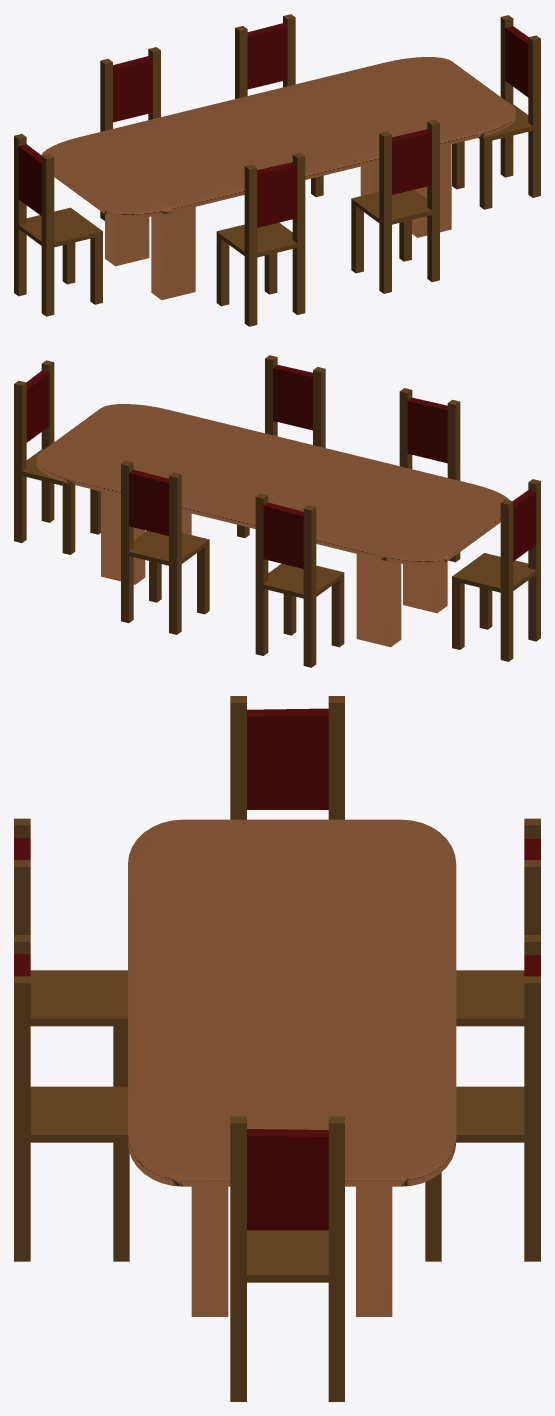
The model's file is comedor2.gltf.
3 views of the same model, one above another, from view 1: azimuth 30°, elevation 25°; view 2: azimuth 150°, elevation 25°; view 3: azimuth 270°, elevation 25° (orthographic). The views are drawn at different scales.
Visible parts, largest first — view 1: Cube, Cube.002, Cube.001, Cube.005, Cube.006, Cube.004, Cube.003; view 2: Cube, Cube.003, Cube.004, Cube.005, Cube.006, Cube.002, Cube.001; view 3: Cube, Cube.006, Cube.001, Cube.005, Cube.004, Cube.002, Cube.003.
Part boxes in pixels (x1=…): Cube: x1=41, y1=57, x2=515, y2=299; Cube.002: x1=216, y1=152, x2=305, y2=326; Cube.001: x1=351, y1=119, x2=439, y2=293; Cube.005: x1=14, y1=134, x2=102, y2=316; Cube.006: x1=452, y1=15, x2=540, y2=209; Cube.004: x1=235, y1=14, x2=323, y2=196; Cube.003: x1=100, y1=47, x2=160, y2=220; Cube: x1=36, y1=404, x2=509, y2=647; Cube.003: x1=255, y1=493, x2=344, y2=667; Cube.004: x1=121, y1=460, x2=209, y2=634; Cube.005: x1=452, y1=479, x2=540, y2=661; Cube.006: x1=14, y1=360, x2=100, y2=554; Cube.002: x1=399, y1=388, x2=460, y2=562; Cube.001: x1=237, y1=355, x2=325, y2=537; Cube: x1=128, y1=819, x2=456, y2=1316; Cube.006: x1=230, y1=1116, x2=344, y2=1401; Cube.001: x1=14, y1=935, x2=129, y2=1261; Cube.005: x1=230, y1=696, x2=344, y2=819; Cube.004: x1=425, y1=935, x2=540, y2=1261; Cube.002: x1=14, y1=818, x2=127, y2=1086; Cube.003: x1=456, y1=818, x2=540, y2=1026.
Bounding box in the file's own units: 25.38 × 7.76 × 13.23.
